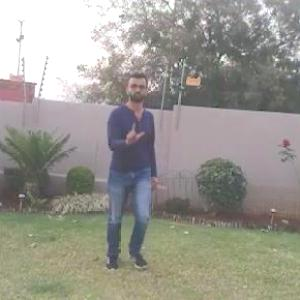land_hand: (123, 119, 150, 144)
